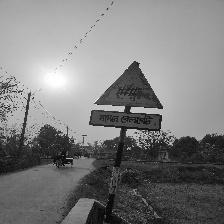Rail-crossing: (90, 62, 164, 131)
